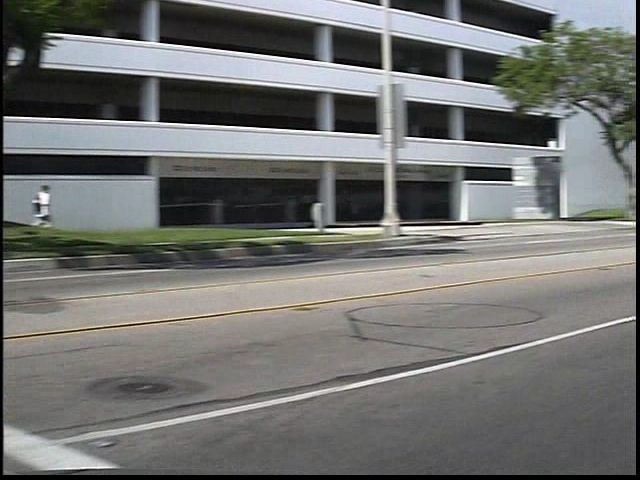person: (52, 178, 80, 247)
